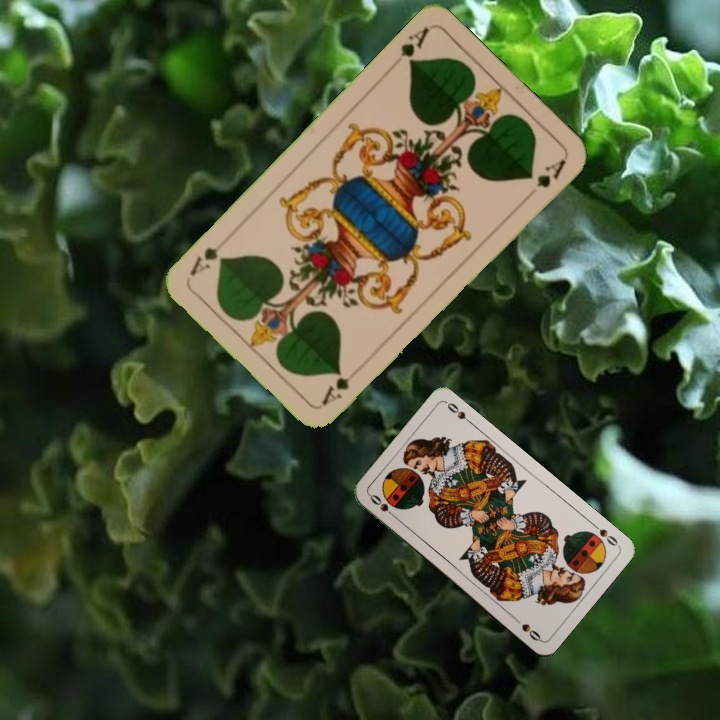GA: (396, 23, 431, 68), (317, 373, 352, 408)
SO: (366, 490, 400, 522), (588, 519, 622, 549)
